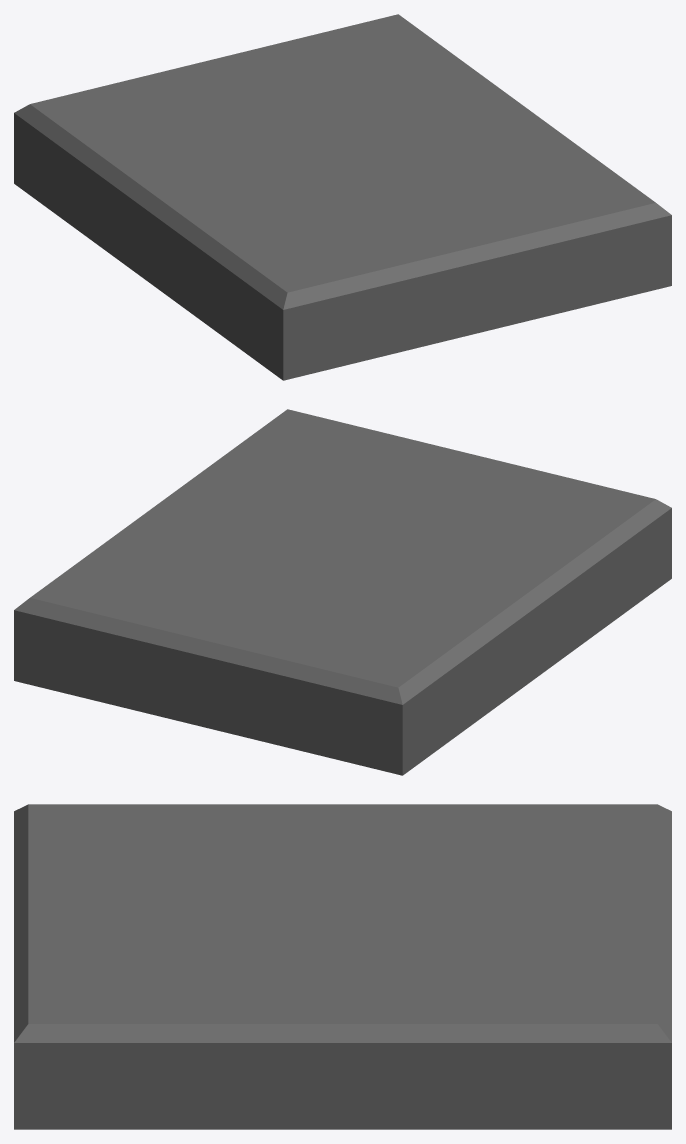
File: Stone_1_8.fbx
3 views of the same model, one above another, from view 1: azimuth 30°, elevation 25°; view 2: azimuth 150°, elevation 25°; view 3: azimuth 270°, elevation 25° (orthographic). The views are drawn at different scales.
Visible parts, largest first — view 1: Stone_1_8; view 2: Stone_1_8; view 3: Stone_1_8.
Part boxes in pixels (<box>): Stone_1_8: <box>14,14,671,380</box>; Stone_1_8: <box>14,409,671,775</box>; Stone_1_8: <box>14,804,671,1129</box>.
Size of the model in its own units: 19.69 by 3.94 by 23.62.
